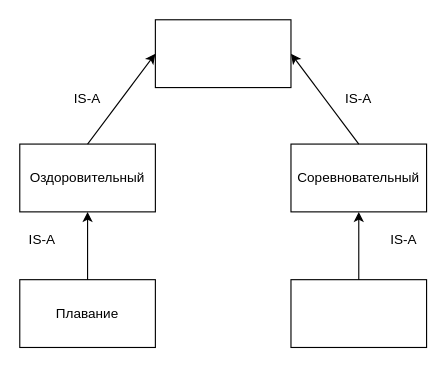
This 446x367 diagram has some shape labels left out. The shapes that lost their labels are listed below. From the top down, each one's centre as x and y in pixels, then its label:
the point at 222,53: Спорт
the point at 358,313: Единоборства
